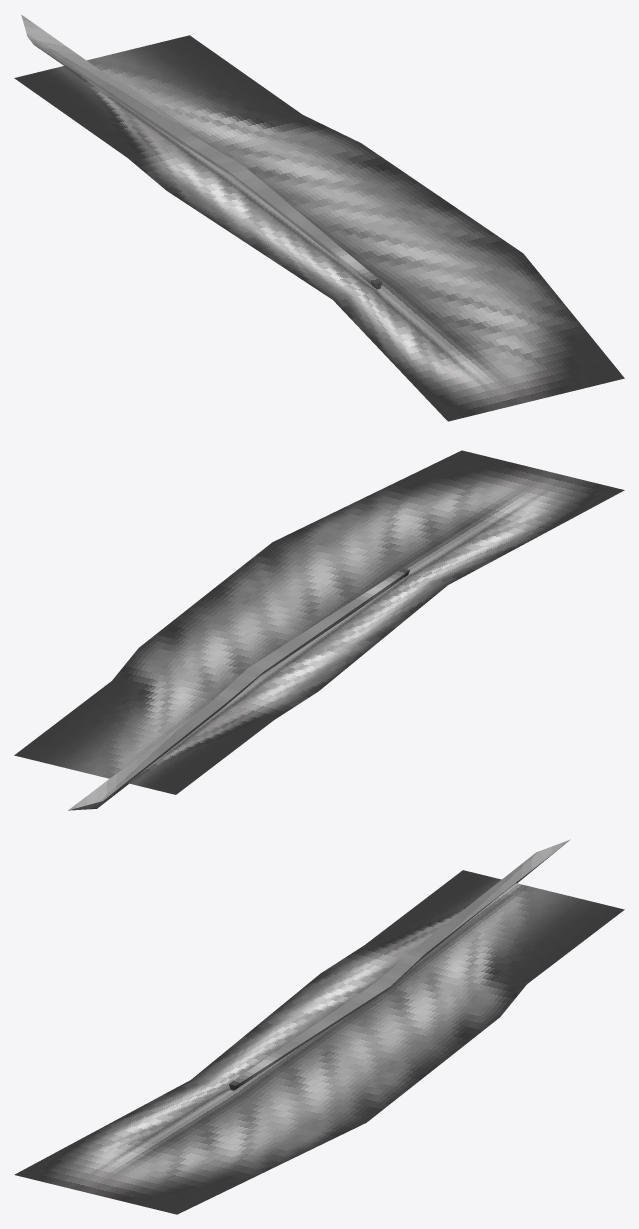
Rendered from pen_high.fbx.
3 renders of one model, top to bottom at view 1: azimuth 30°, elevation 25°; view 2: azimuth 150°, elevation 25°; view 3: azimuth 330°, elevation 25°, orthographic. The views are drawn at different scales.
Parts seen in each view (by area): view 1: feather, quill; view 2: feather, quill; view 3: feather, quill.
Boxes of the visible parts, x1,y1,x2,y2 form: feather: (14, 35, 624, 421); quill: (21, 14, 382, 289); feather: (14, 450, 624, 794); quill: (68, 568, 409, 810); feather: (14, 870, 624, 1214); quill: (229, 839, 570, 1090).
Bounding box in the file's own units: 28.7 × 1.75 × 112.
1 material, 1 textured.
